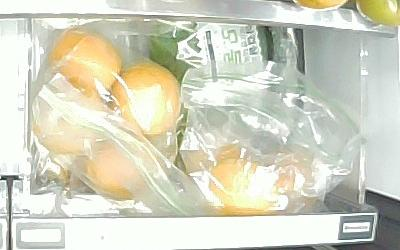orange_vinyl: (46, 28, 122, 101), (86, 131, 161, 201), (113, 63, 180, 141), (207, 157, 280, 217), (33, 96, 101, 157)
